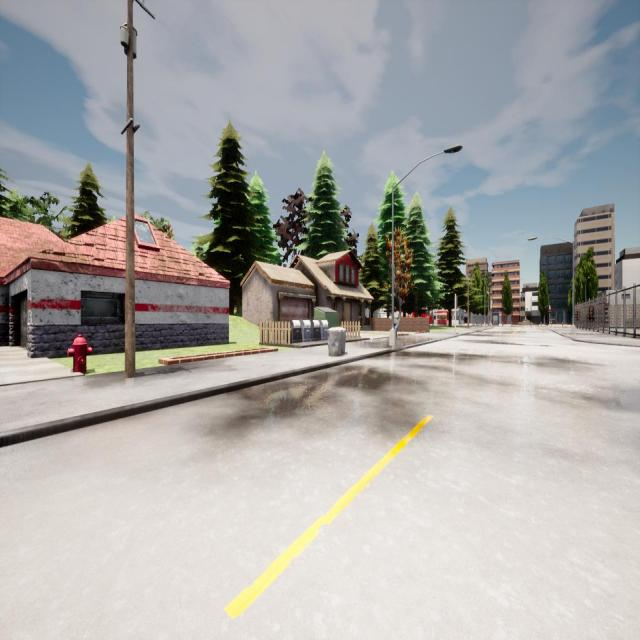Pedestrian: (393, 305, 400, 337)
traffic_light: (548, 306, 552, 315), (455, 298, 458, 309)
